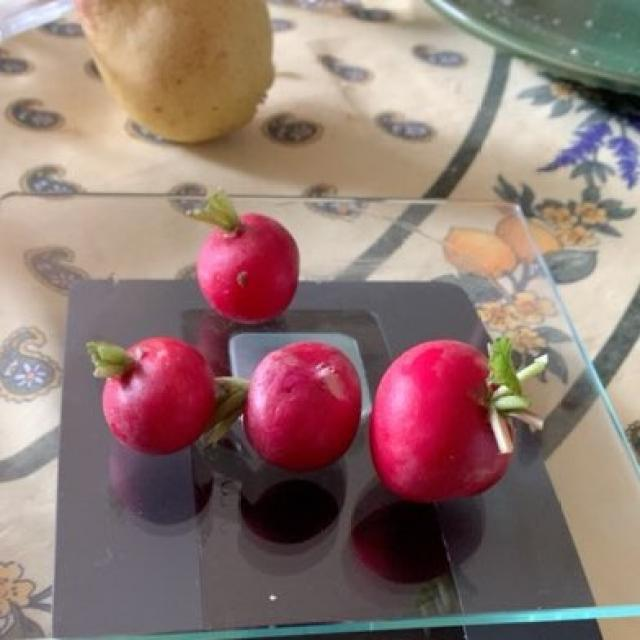red-radish: (94, 195, 537, 511)
